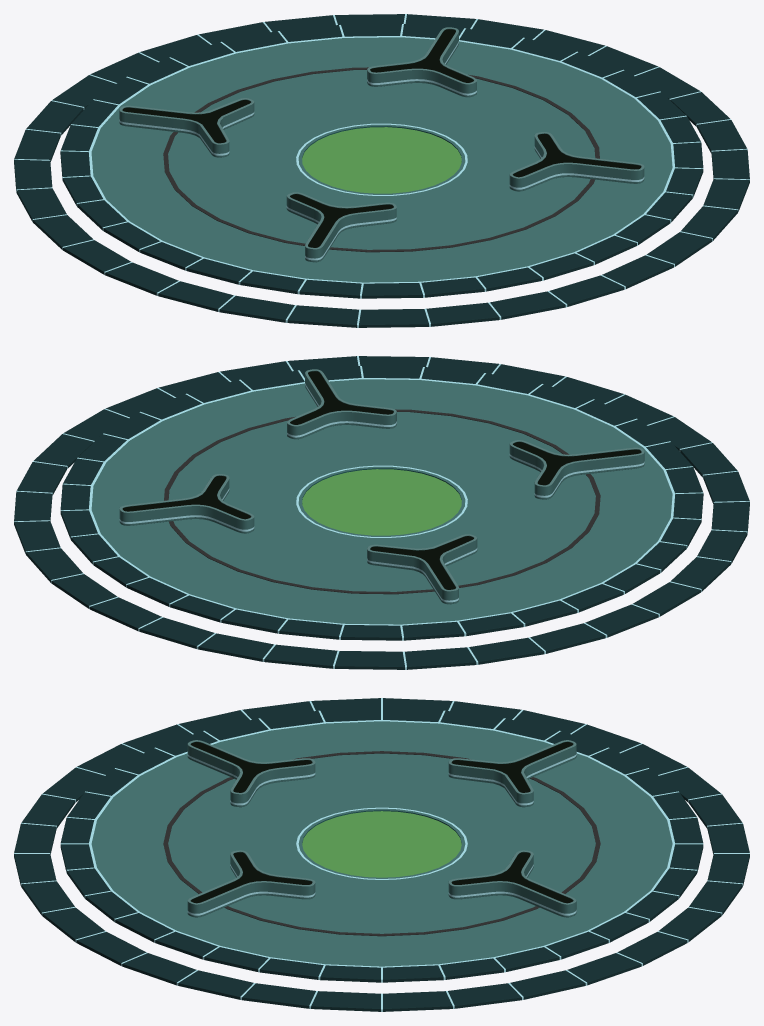
The model's file is W_O_Forum_Flowerbed_002_L0.fbx.
3 renders of one model, top to bottom at view 1: azimuth 30°, elevation 25°; view 2: azimuth 150°, elevation 25°; view 3: azimuth 270°, elevation 25°, orthographic.
Parts seen in each view (by area): view 1: W_O_Forum_Flowerbed_002_L0; view 2: W_O_Forum_Flowerbed_002_L0; view 3: W_O_Forum_Flowerbed_002_L0.
Part boxes in pixels (x1,y1,x2,y2): W_O_Forum_Flowerbed_002_L0: (14, 14, 749, 327); W_O_Forum_Flowerbed_002_L0: (14, 356, 749, 669); W_O_Forum_Flowerbed_002_L0: (14, 698, 749, 1011).
Size of the model in its own units: 13.8 by 0.7076 by 13.8.
